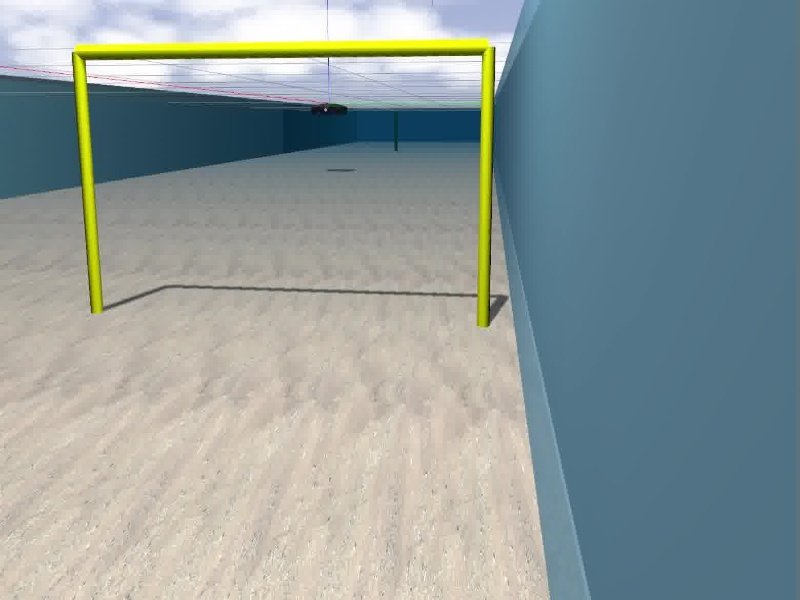gate: (71, 40, 497, 329)
